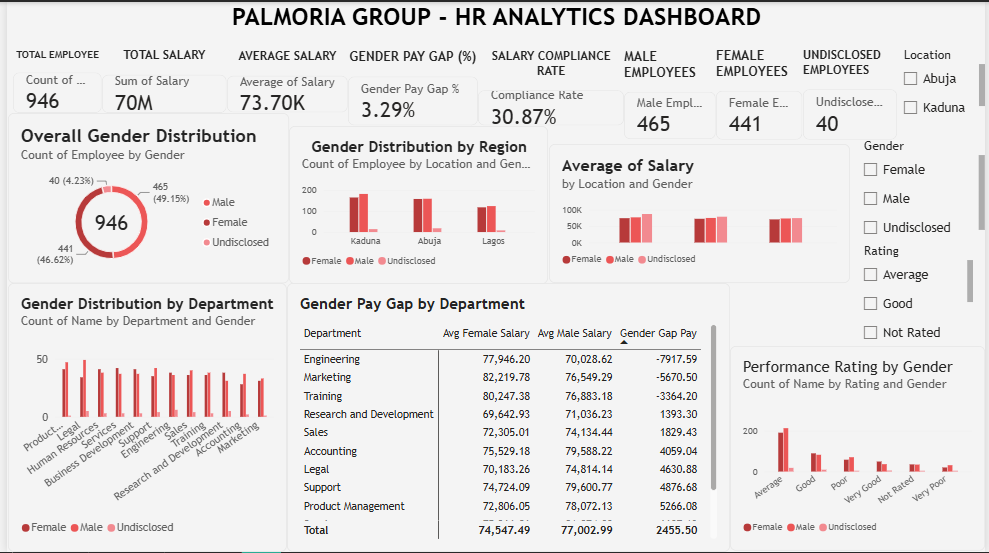

What the dashboard file says about the page in this screenshot:
{"tool":"powerbi","page":{"name":"Page 1","canvas":[1280,720],"ordinal":0},"visuals":[{"type":"donutChart","title":"Overall Gender Distribution","fields":{"Category":["Palmoria Group emp-data raw (2).Gender"],"Y":["CountNonNull(Palmoria Group emp-data raw (2).Employee ID)"]},"box":[1.5,145.4,368.1,222.7],"z":0},{"type":"clusteredColumnChart","title":"Gender Distribution by Region","fields":{"Category":["Palmoria Group emp-data raw (2).Location"],"Series":["Palmoria Group emp-data raw (2).Gender"],"Y":["CountNonNull(Palmoria Group emp-data raw (2).Employee ID)"]},"box":[369.2,162.3,339.1,206.8],"z":1000},{"type":"clusteredColumnChart","fields":{"Category":["Palmoria Group emp-data raw (2).Location"],"Y":["Avg(Palmoria Group emp-data raw (2).Salary)"],"Series":["Palmoria Group emp-data raw (2).Gender"]},"box":[709.5,185.9,394,182],"z":2000},{"type":"cardVisual","title":"TOTAL EMPLOYEE","fields":{"Data":["CountNonNull(Palmoria Group emp-data raw (2).Employee ID)"]},"box":[8.3,60,116.7,85],"z":3000},{"type":"cardVisual","title":"AVERAGE SALARY","fields":{"Data":["Avg(Palmoria Group emp-data raw (2).Salary)"]},"box":[288.3,61.7,158.3,83.3],"z":4000},{"type":"slicer","fields":{"Values":["Palmoria Group emp-data raw (2).Gender"]},"box":[1114,179.3,166.3,130.9],"z":5000},{"type":"slicer","fields":{"Values":["Palmoria Group emp-data raw (2).Location"]},"box":[1166.4,60.2,113.9,100.8],"z":6000},{"type":"cardVisual","title":"TOTAL SALARY","fields":{"Data":["Sum(Palmoria Group emp-data raw (2).Salary)"]},"box":[125,60,163.3,85],"z":7000},{"type":"cardVisual","title":"GENDER PAY GAP (%)","fields":{"Data":["Bonus Rules.Gender Pay Gap %"]},"box":[446.7,61.7,170,100],"z":8000},{"type":"cardVisual","title":"SALARY COMPLIANCE RATE","fields":{"Data":["Bonus Rules.Compliance Rate"]},"box":[616.7,61.7,191.7,100],"z":9000},{"type":"textbox","box":[1.5,0,1279,60],"z":10000},{"type":"cardVisual","title":"MALE EMPLOYEES","fields":{"Data":["Palmoria Group emp-data raw (2).Male Employees"]},"box":[808.3,61.7,120,118.3],"z":11000},{"type":"cardVisual","title":"UNDISCLOSED EMPLOYEES","fields":{"Data":["Palmoria Group emp-data raw (2).Undisclosed Employees"]},"box":[1042,60.2,123.1,120.4],"z":12000},{"type":"cardVisual","title":"FEMALE EMPLOYEES","fields":{"Data":["Palmoria Group emp-data raw (2).Female Employees"]},"box":[928.3,60,113.3,120],"z":13000},{"type":"pivotTable","title":"Gender Pay Gap by Department","fields":{"Rows":["Palmoria Group emp-data raw (2).Department"],"Values":["Bonus Rules.Avg Female Salary","Bonus Rules.Avg Male Salary","Bonus Rules.Gender Gap Pay"]},"box":[367.1,370,580,350],"z":14000},{"type":"clusteredColumnChart","title":"Gender Distribution by Department","fields":{"Category":["Palmoria Group emp-data raw (2).Department"],"Series":["Palmoria Group emp-data raw (2).Gender"],"Y":["CountNonNull(Palmoria Group emp-data raw (2).Name)"]},"box":[1.3,367.9,365.2,352.1],"z":15000},{"type":"clusteredColumnChart","title":"Performance Rating by Gender","fields":{"Category":["Palmoria Group emp-data raw (2).Rating"],"Y":["CountNonNull(Palmoria Group emp-data raw (2).Name)"],"Series":["Palmoria Group emp-data raw (2).Gender"]},"box":[947.1,450,332.9,268.6],"z":16000},{"type":"slicer","fields":{"Values":["Palmoria Group emp-data raw (2).Rating"]},"box":[1114,316.8,150.5,133.5],"z":17000}]}

Visuals, with their boxes in screenshot pixels (x1, y1, x2, y2), scaled from the page's 1280x720 canvas onto the 989x553 screenshot:
"Overall Gender Distribution" donutChart: [1,112,286,283]
"Gender Distribution by Region" clusteredColumnChart: [285,125,547,283]
clusteredColumnChart - Palmoria Group emp-data raw (2).Location x Avg(Palmoria Group emp-data raw (2).Salary): [548,143,853,283]
"TOTAL EMPLOYEE" cardVisual: [6,46,97,111]
"AVERAGE SALARY" cardVisual: [223,47,345,111]
slicer - Palmoria Group emp-data raw (2).Gender: [861,138,988,238]
slicer - Palmoria Group emp-data raw (2).Location: [901,46,988,124]
"TOTAL SALARY" cardVisual: [97,46,223,111]
"GENDER PAY GAP (%)" cardVisual: [345,47,476,124]
"SALARY COMPLIANCE RATE" cardVisual: [476,47,625,124]
textbox: [1,0,988,46]
"MALE EMPLOYEES" cardVisual: [625,47,717,138]
"UNDISCLOSED EMPLOYEES" cardVisual: [805,46,900,139]
"FEMALE EMPLOYEES" cardVisual: [717,46,805,138]
"Gender Pay Gap by Department" pivotTable: [284,284,732,552]
"Gender Distribution by Department" clusteredColumnChart: [1,283,283,552]
"Performance Rating by Gender" clusteredColumnChart: [732,346,988,552]
slicer - Palmoria Group emp-data raw (2).Rating: [861,243,977,346]
